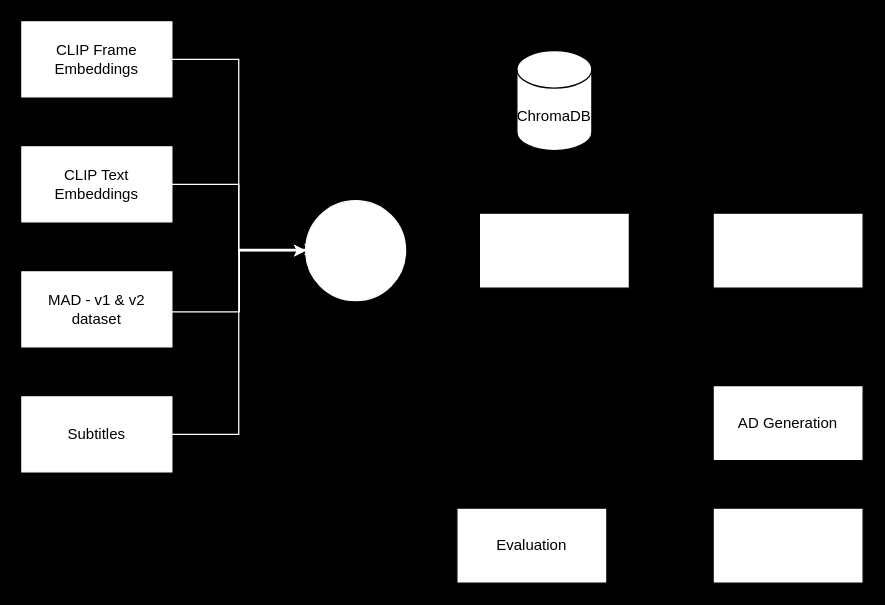
Image size: 885x605. Some labels were removed from this diagram. The shapes that lost their labels are listed below. From the top down, each one's box as (x1, y1, x2, y2) in pixels, then its label:
(304, 199, 406, 301): Shot Detection Module
(478, 212, 629, 288): Context Retrieval
(712, 212, 863, 288): Prompt Construction
(712, 507, 863, 583): Storage
